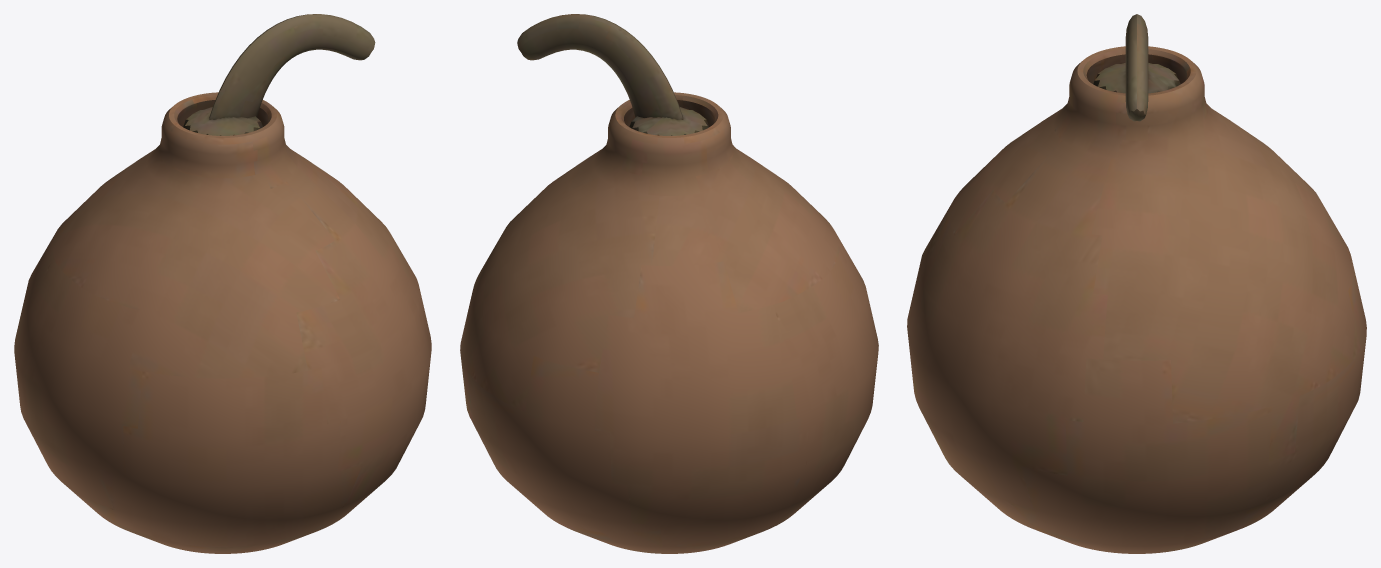
Rendered from incendiary_pot.glb.
The picture shows the model from 3 angles, left to right: view 1: azimuth 30°, elevation 25°; view 2: azimuth 150°, elevation 25°; view 3: azimuth 270°, elevation 25°; orthographic projection. The views are drawn at different scales.
Visible parts, largest first — view 1: incendiary_pot; view 2: incendiary_pot; view 3: incendiary_pot.
Boxes of the visible parts, x1=… form: incendiary_pot: x1=14, y1=14, x2=431, y2=553; incendiary_pot: x1=460, y1=14, x2=878, y2=553; incendiary_pot: x1=907, y1=14, x2=1366, y2=553.
Size of the model in its own units: 0.146 by 0.1933 by 0.146.
Materials: 1 (1 with a texture image).
